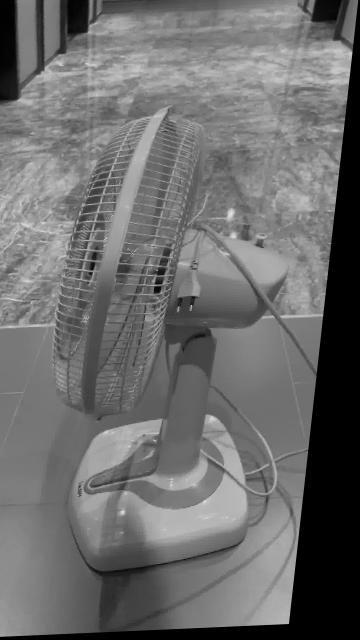Fan: (61, 109, 295, 576)
